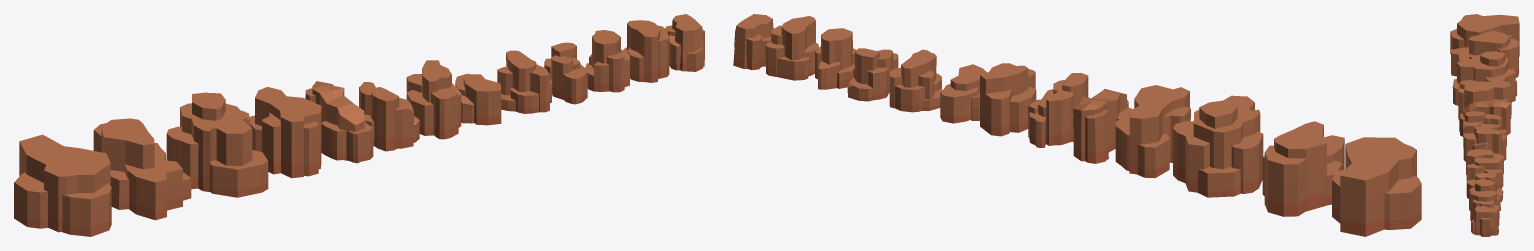
The model's file is Cliffs.fbx.
3 renders of one model, left to right at view 1: azimuth 30°, elevation 25°; view 2: azimuth 150°, elevation 25°; view 3: azimuth 270°, elevation 25°, orthographic. The views are drawn at different scales.
Visible parts, largest first — view 1: Cliffs_01, Cliffs_03, Cliffs_02, Cliffs_04, Cliffs_05, Cliffs_07, Cliffs_06, Cliffs_09, Cliffs_12, Cliffs_11, Cliffs_08, Cliffs_10 (+1 smaller); view 2: Cliffs_03, Cliffs_01, Cliffs_02, Cliffs_04, Cliffs_07, Cliffs_05, Cliffs_06, Cliffs_12, Cliffs_09, Cliffs_11, Cliffs_10, Cliffs_08 (+1 smaller); view 3: Cliffs_03, Cliffs_01, Cliffs_02, Cliffs_04, Cliffs_07, Cliffs_05, Cliffs_13, Cliffs_06, Cliffs_09, Cliffs_12, Cliffs_08, Cliffs_10 (+1 smaller).
Boxes of the visible parts, x1,y1,x2,y2 form: Cliffs_01: [14, 134, 111, 236]; Cliffs_03: [166, 92, 268, 197]; Cliffs_02: [93, 118, 191, 220]; Cliffs_04: [249, 87, 321, 178]; Cliffs_05: [305, 81, 373, 163]; Cliffs_07: [406, 60, 461, 139]; Cliffs_06: [359, 82, 419, 151]; Cliffs_09: [497, 50, 551, 113]; Cliffs_12: [623, 20, 669, 82]; Cliffs_11: [585, 30, 629, 92]; Cliffs_08: [455, 73, 501, 125]; Cliffs_10: [544, 42, 587, 104]; Cliffs_03: [1173, 95, 1263, 197]; Cliffs_01: [1332, 137, 1421, 236]; Cliffs_02: [1262, 121, 1344, 216]; Cliffs_04: [1115, 85, 1190, 178]; Cliffs_07: [980, 63, 1036, 136]; Cliffs_05: [1073, 89, 1131, 163]; Cliffs_06: [1028, 73, 1088, 147]; Cliffs_12: [765, 16, 818, 80]; Cliffs_09: [889, 49, 941, 112]; Cliffs_11: [815, 28, 855, 89]; Cliffs_10: [847, 48, 898, 101]; Cliffs_08: [940, 64, 986, 123]; Cliffs_03: [1452, 51, 1517, 105]; Cliffs_01: [1450, 14, 1519, 56]; Cliffs_02: [1451, 30, 1518, 77]; Cliffs_04: [1458, 80, 1511, 119]; Cliffs_07: [1463, 126, 1506, 161]; Cliffs_05: [1459, 99, 1510, 136]; Cliffs_13: [1471, 206, 1498, 236]; Cliffs_06: [1463, 111, 1506, 147]; Cliffs_09: [1466, 158, 1503, 189]; Cliffs_12: [1470, 190, 1499, 225]; Cliffs_08: [1466, 149, 1503, 174]; Cliffs_10: [1466, 172, 1503, 201].
Bounding box in the file's own units: 329 × 33.41 × 49.42.
Materials: 1 (1 with a texture image).
